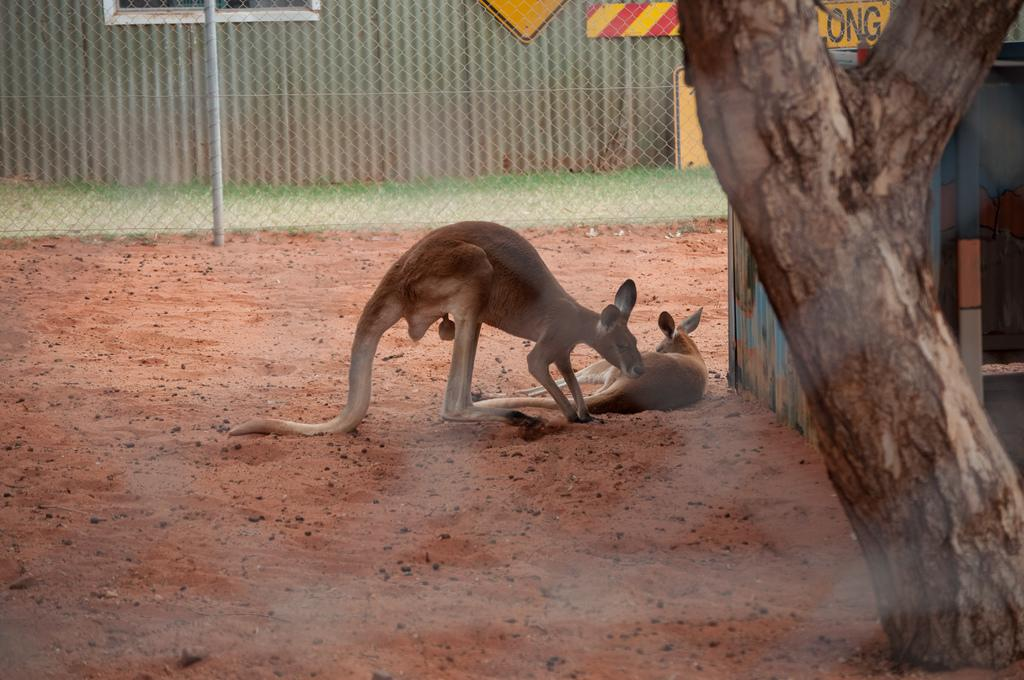kangaroo: (230, 221, 646, 436), (471, 301, 706, 416)
